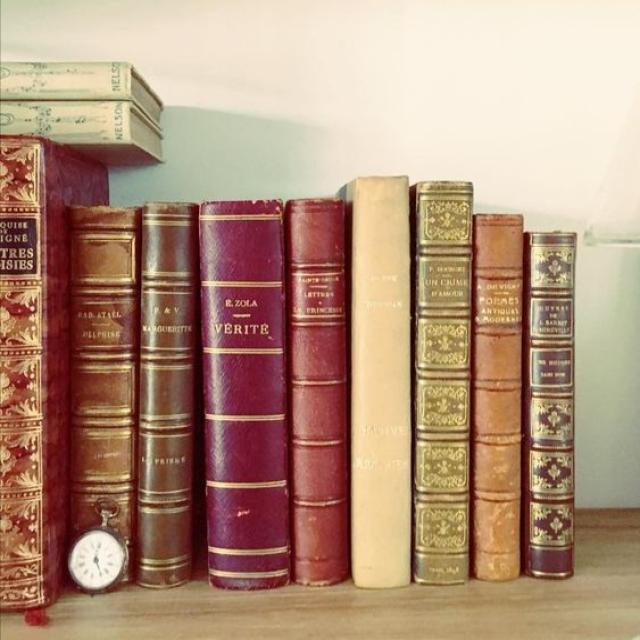book: (198, 200, 287, 587), (352, 179, 410, 586), (287, 202, 347, 584), (69, 205, 134, 528), (418, 182, 469, 584), (0, 141, 43, 609), (140, 205, 192, 586), (475, 213, 519, 582), (532, 230, 573, 579), (1, 100, 128, 138), (1, 61, 129, 97)
